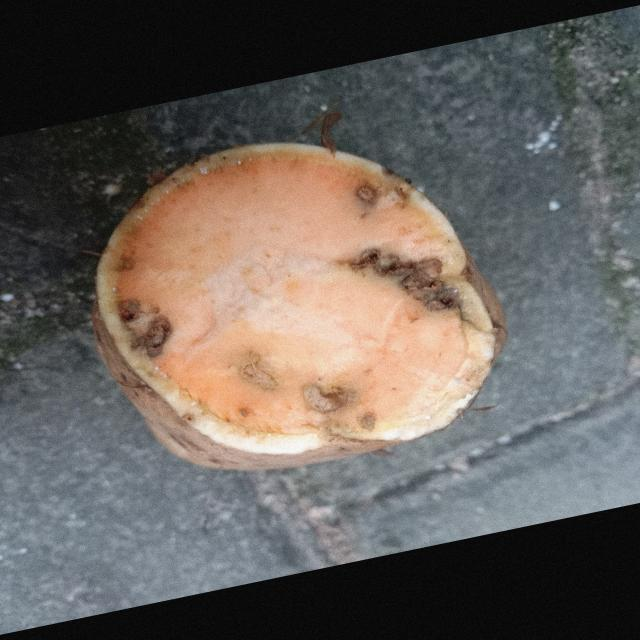Sick Sweet Potato_Tuber Rot: (93, 144, 507, 470)
